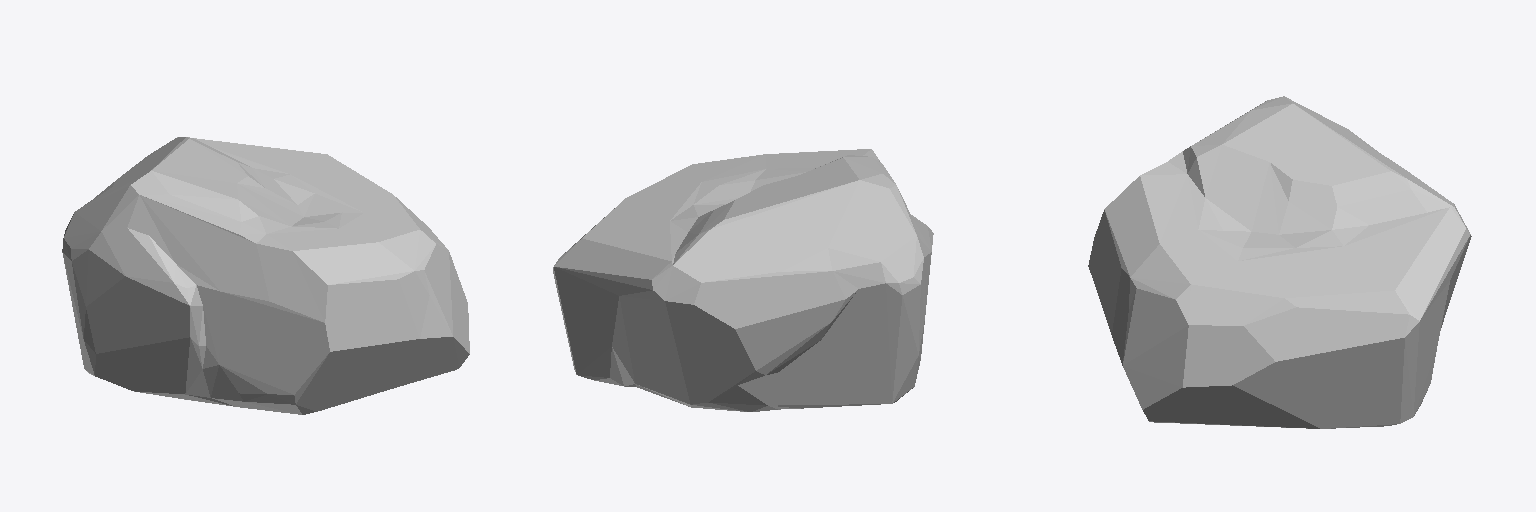
Rendered from sm_rock1.OBJ.
The picture shows the model from 3 angles: view 1: azimuth 30°, elevation 25°; view 2: azimuth 150°, elevation 25°; view 3: azimuth 270°, elevation 25°; orthographic projection.
Parts seen in each view (by area): view 1: ZBrushPolyMesh3D; view 2: ZBrushPolyMesh3D; view 3: ZBrushPolyMesh3D.
Part boxes in pixels (bbox=[...]): ZBrushPolyMesh3D: bbox=[62, 137, 469, 414]; ZBrushPolyMesh3D: bbox=[553, 149, 933, 411]; ZBrushPolyMesh3D: bbox=[1088, 96, 1471, 428].
Bounding box in the file's own units: 1.63 × 0.9643 × 1.6.